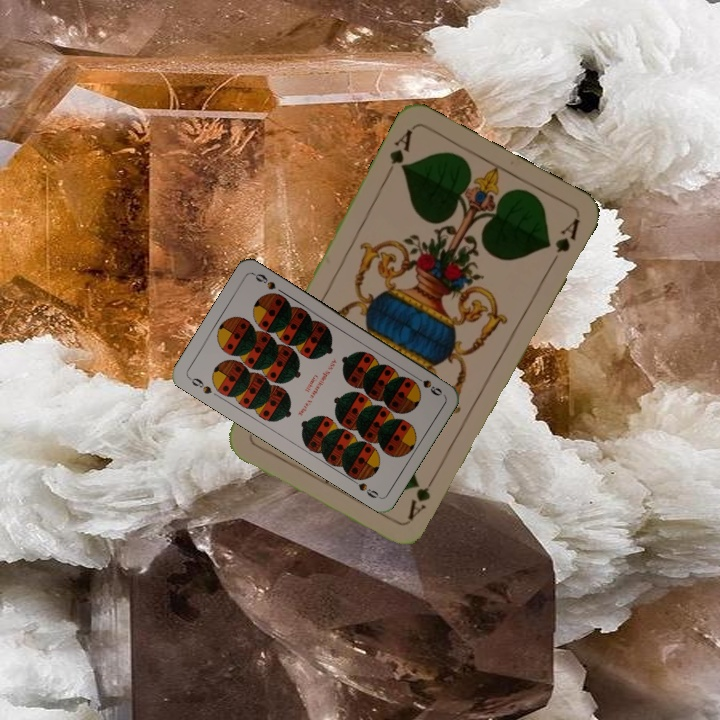GA: (403, 468, 440, 523), (383, 125, 415, 180)
S9: (409, 370, 445, 399), (185, 373, 214, 397)
